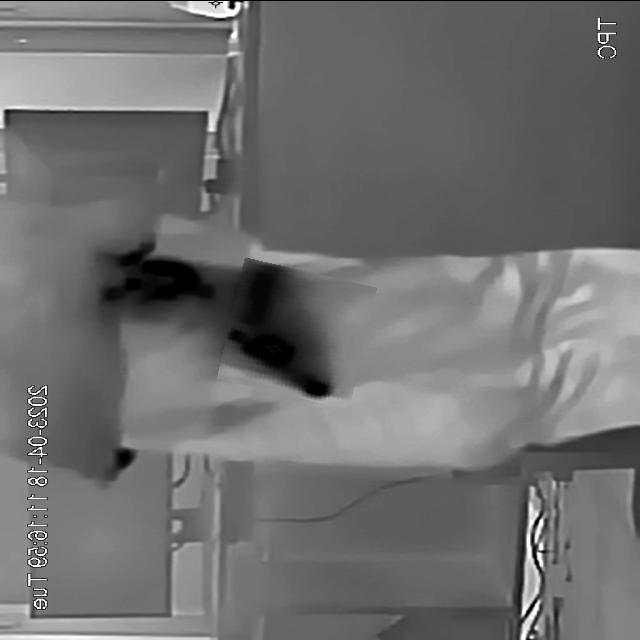Weapon: (223, 264, 371, 402)
